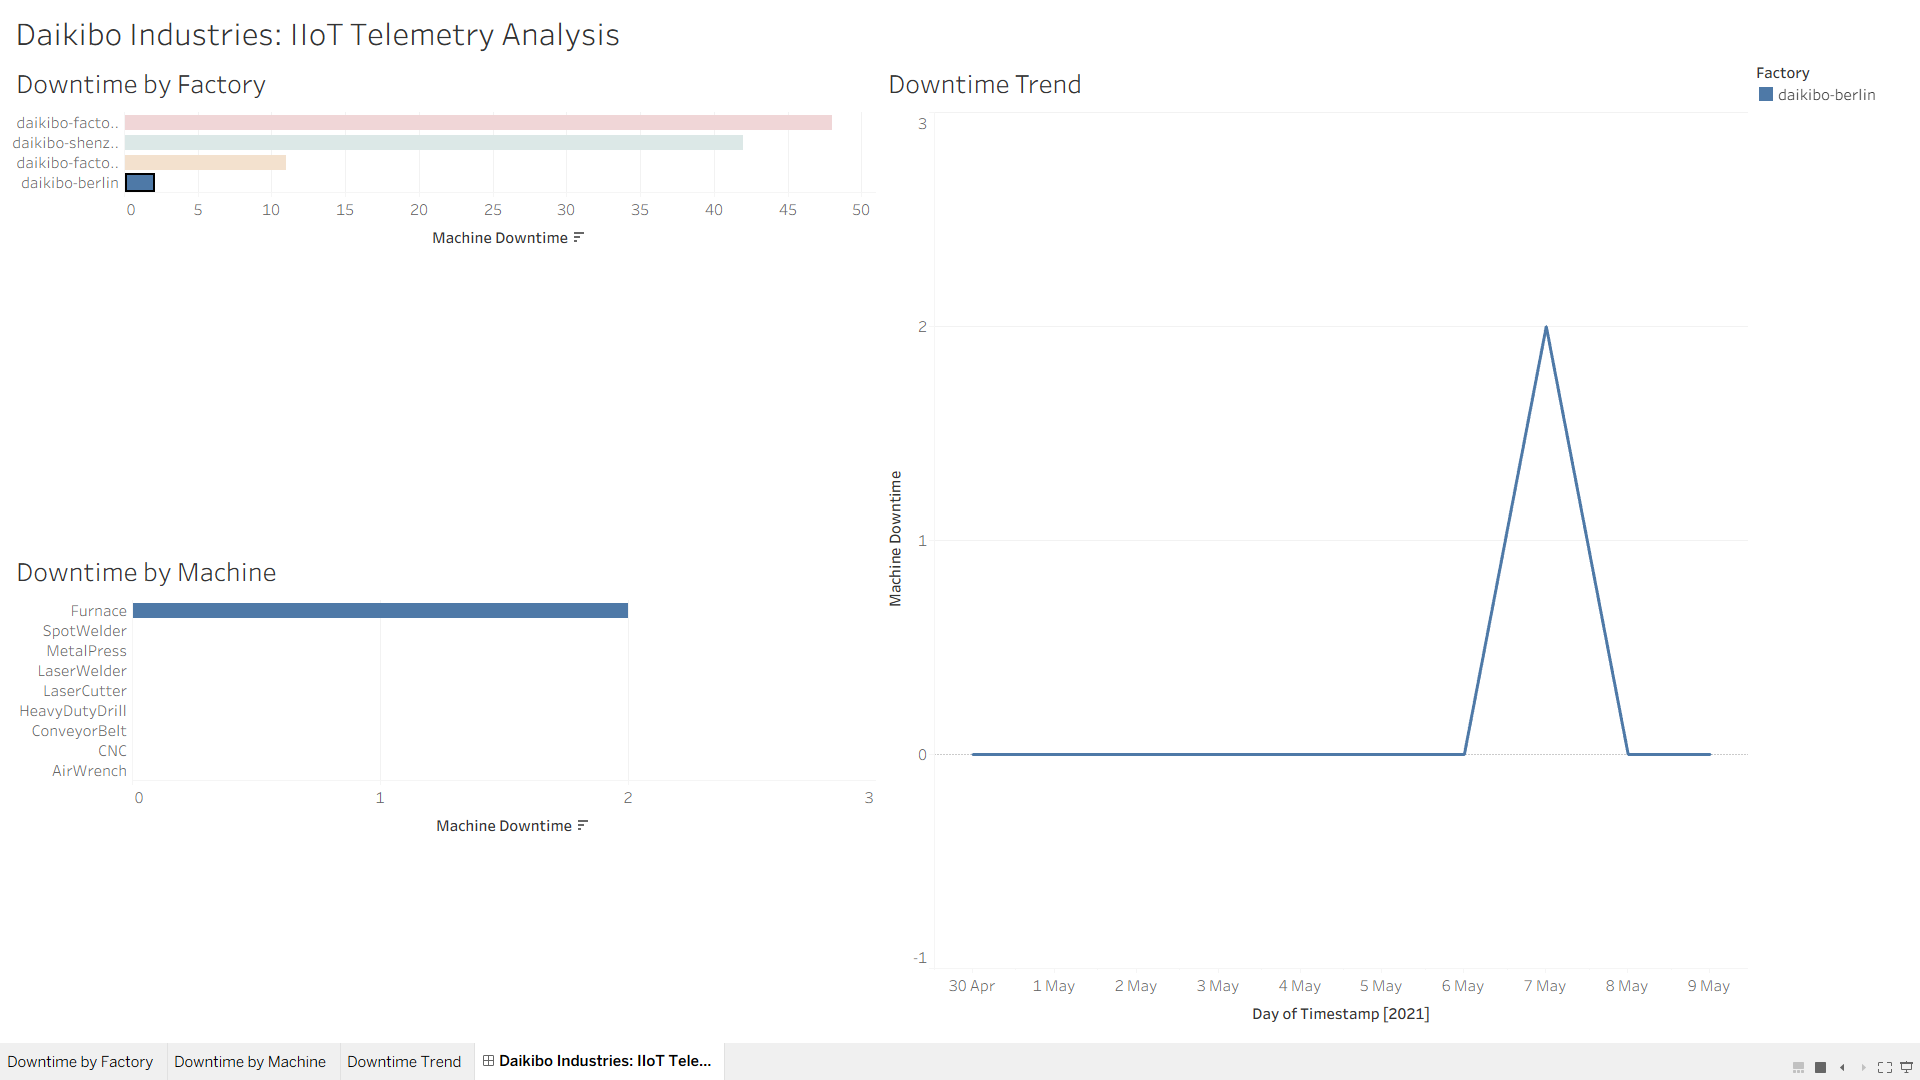

This screenshot's page, from the dashboard's own definition file:
{"tool":"tableau","page":{"name":"Daikibo Industries: IIoT Telemetry Analysis","canvas":[1000,1000],"units":"permille","ordinal":0},"visuals":[{"type":"title","box":[4.8,8.8,990.3,54.9]},{"type":"worksheet","title":"Downtime by Factory","mark":"Automatic","rows":["factory"],"cols":["Calculation_1813951393034240"],"box":[4.8,63.7,440.6,463.7]},{"type":"worksheet","title":"Downtime Trend","mark":"Automatic","rows":["Calculation_1813951393034240"],"cols":["timestamp"],"box":[445.4,63.7,453.2,927.6]},{"type":"legend","title":"Downtime Trend","param":"[federated.0dfa3hv15g2pef1g6h5f31583lfa].[none:factory:nk]","box":[898.6,63.7,96.6,125.1]},{"type":"legend","title":"Downtime by Machine","param":"[federated.0dfa3hv15g2pef1g6h5f31583lfa].[sum:Calculation_1813951393034240:qk]","box":[898.6,188.8,96.6,26.3]},{"type":"worksheet","title":"Downtime by Machine","mark":"Automatic","rows":["deviceType"],"cols":["Calculation_1813951393034240"],"box":[4.8,527.4,440.6,463.8]}]}

Visuals, with their boxes on the dashboard's canvas, which has no fixed pixel size, in thousandths of its width and height (x1, y1, x2, y2). These are canvas units, not pixel positions in the 1920x1080 screenshot, which may show the page scaled, cropped or inside an application window:
title: [5,9,995,64]
"Downtime by Factory" worksheet: [5,64,445,527]
"Downtime Trend" worksheet: [445,64,899,991]
"Downtime Trend" legend: [899,64,995,189]
"Downtime by Machine" legend: [899,189,995,215]
"Downtime by Machine" worksheet: [5,527,445,991]
